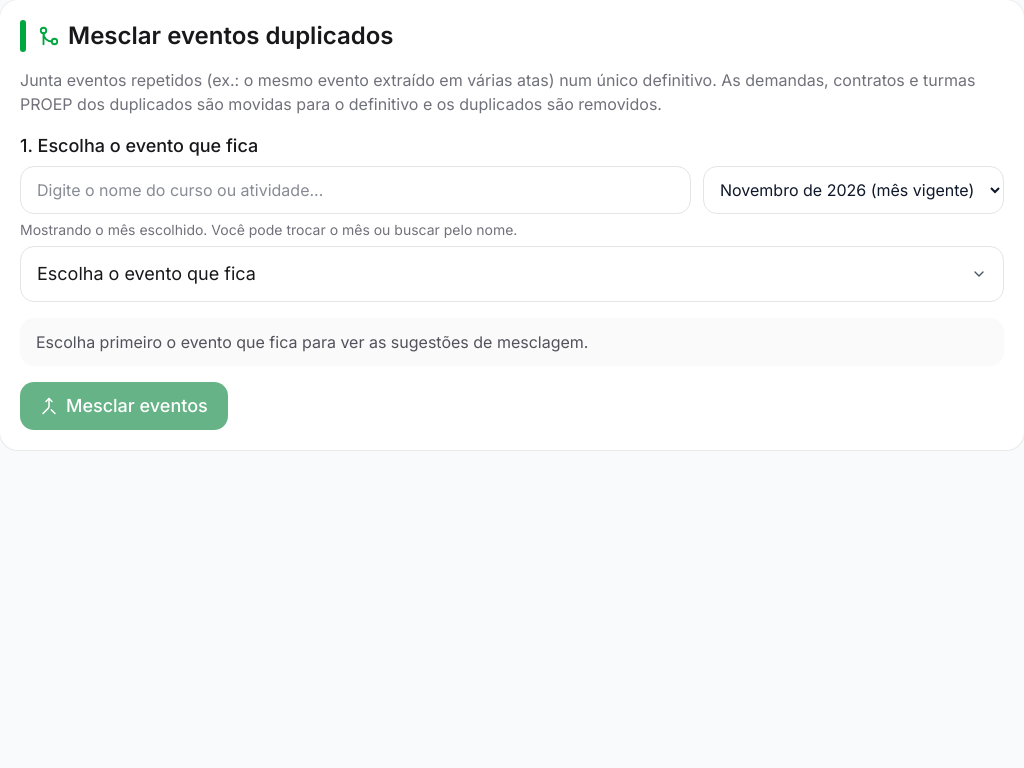
Scenario: escolha do evento definitivo para mesclar › prioriza nomes semelhantes, permite ver outros eventos e limpa a seleção ao trocar o definitivo
Step 1. Click the dropdown named "Escolha o evento definitivo" → (146, 274), box [20,246,1004,302]
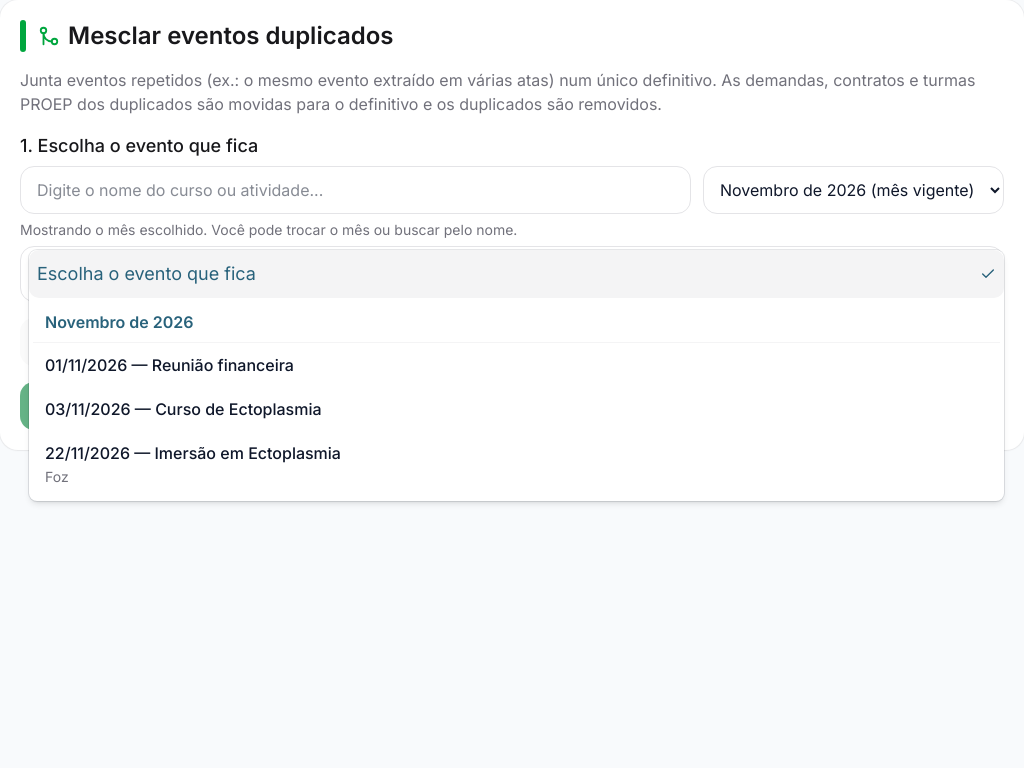
Step 2. Click the option "03/11/2026 — Curso de Ectoplasmia" → (183, 409), box [45,399,322,419]
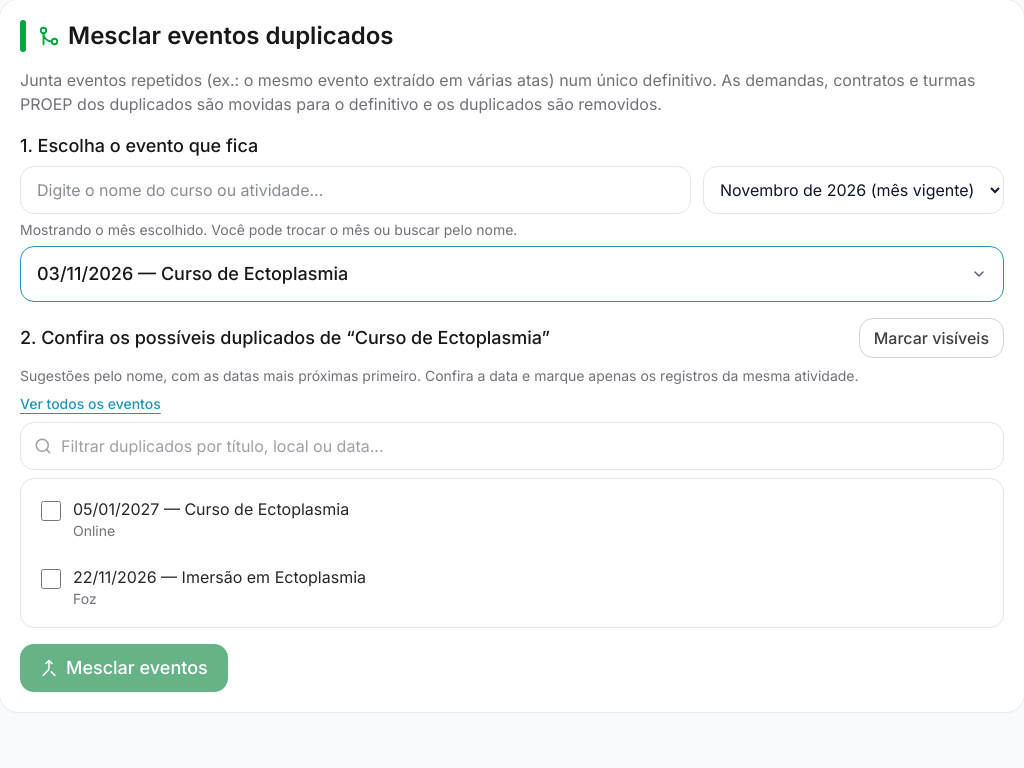
Check: the option "financeira" is gone
Step 3. Click the checkbox labelled "05/01/2027 — Curso de Ectoplasmia Online" → (51, 511), box [41,501,61,521]
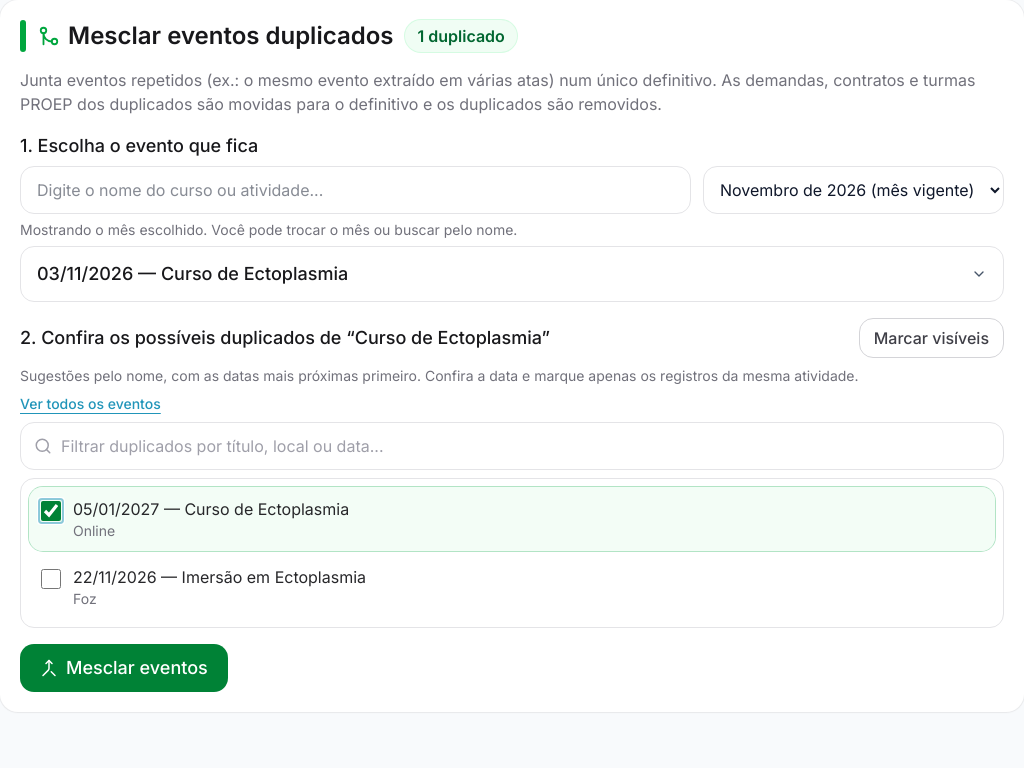
Check: the button "Mesclar eventos" is enabled, box [20,644,228,692]
Step 4. Click the button "Ver todos os eventos" → (90, 404), box [20,394,161,414]
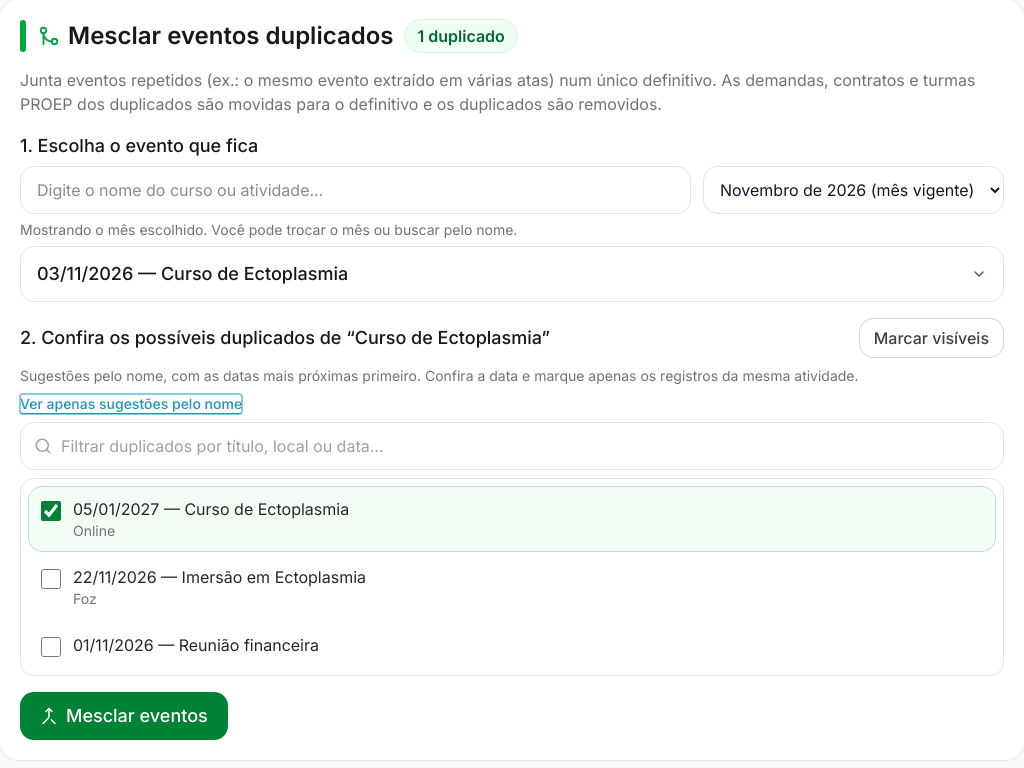
Check: the checkbox labelled "01/11/2026 — Reunião financeira" is shown, box [41,637,61,657]
Step 5. Click the dropdown named "Escolha o evento definitivo" → (193, 274), box [20,246,1004,302]
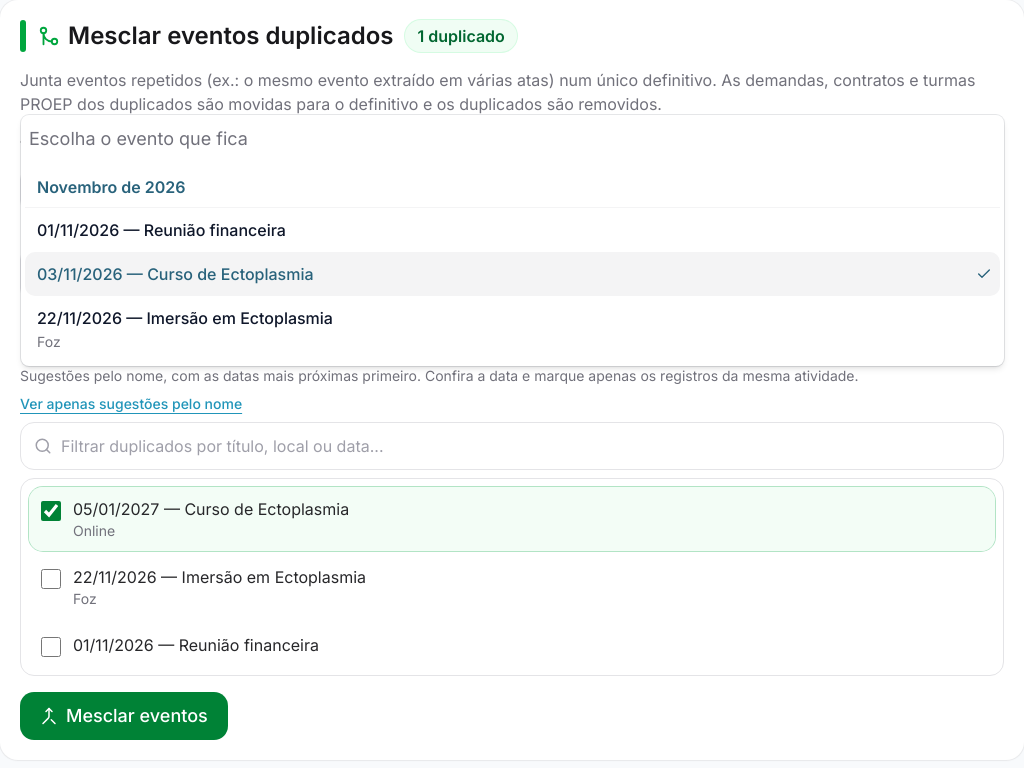
Step 6. Click the option "22/11/2026 — Imersão em Ectoplasmia Foz" → (185, 329), box [37,308,333,350]
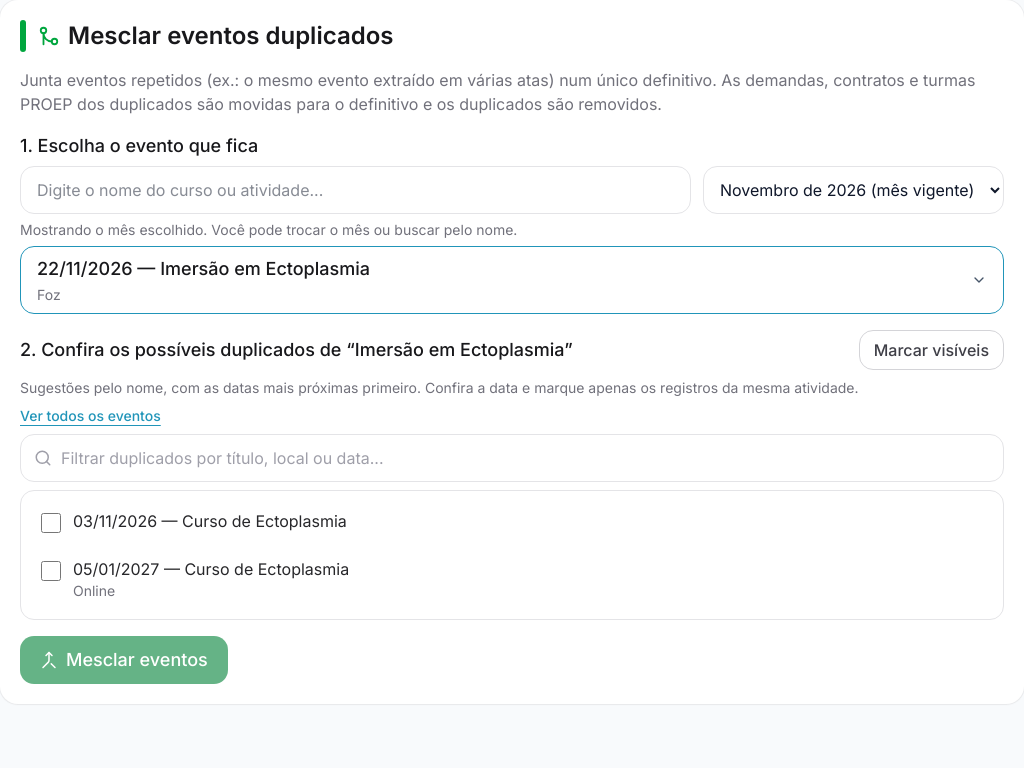
Check: the button "Mesclar eventos" is disabled, box [20,636,228,684]
